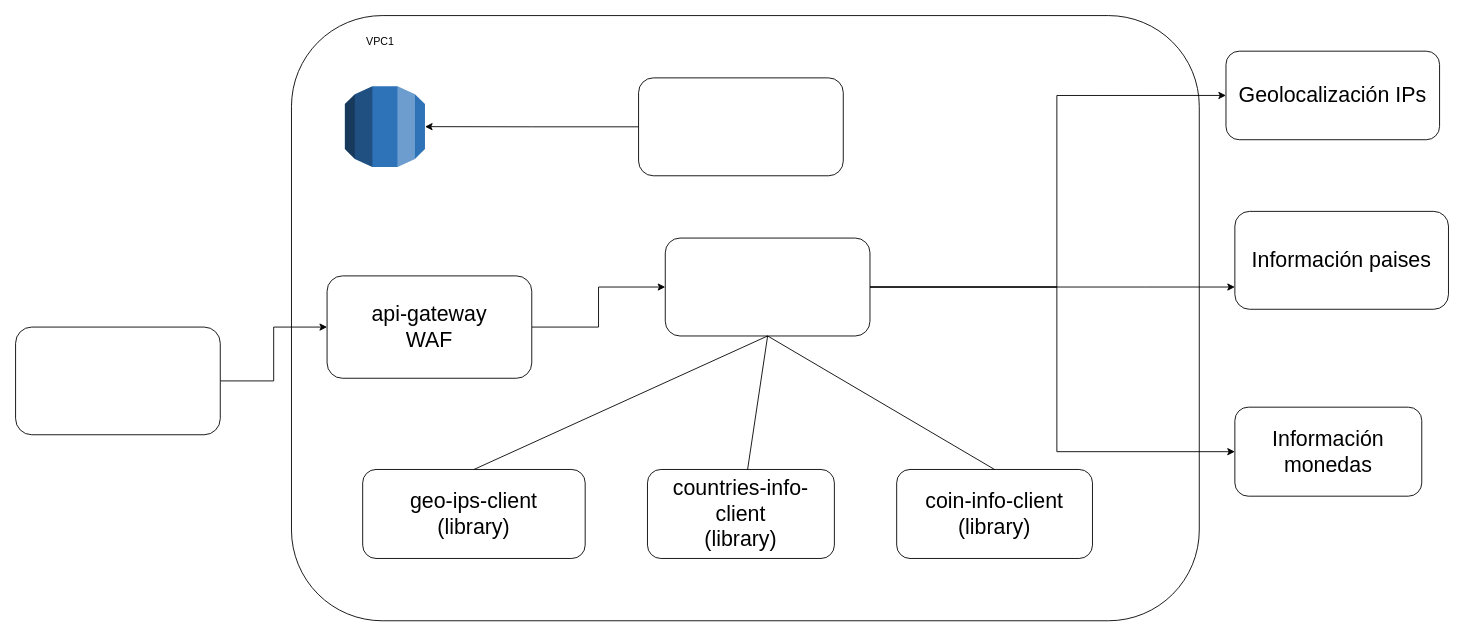
Image size: 1464x636. Some labels were removed from this diagram. Each missing label, with the box of its shape:
blacklist module: (638, 77, 843, 176)
external-consumer: (15, 326, 220, 435)
Ips-microservice: (664, 237, 870, 336)
